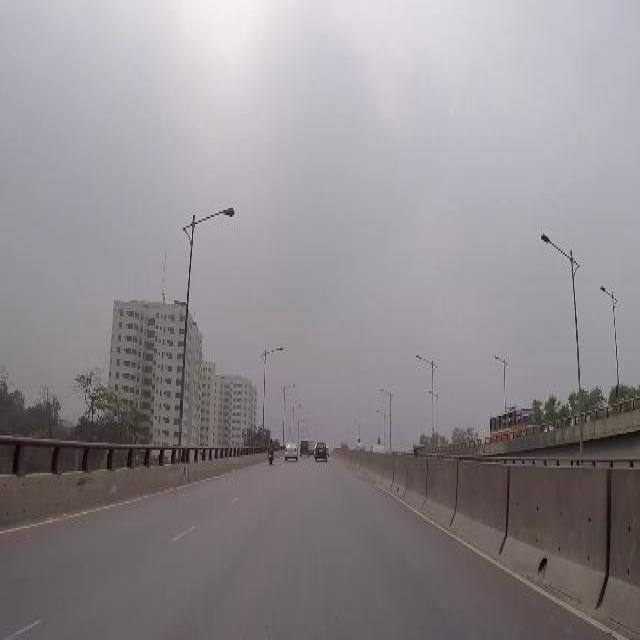bus: (490, 404, 534, 438)
car: (284, 442, 296, 461), (314, 442, 326, 458), (371, 442, 384, 451)
minivan: (300, 440, 308, 456)
motorbike: (268, 437, 274, 463)
pickup: (308, 439, 314, 453)
